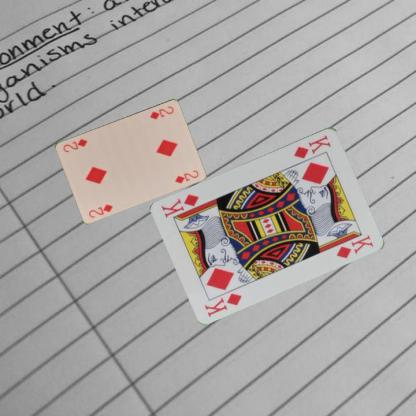2d: (86, 201, 114, 219), (147, 103, 175, 120)
Kd: (202, 290, 243, 318), (291, 132, 332, 159)
